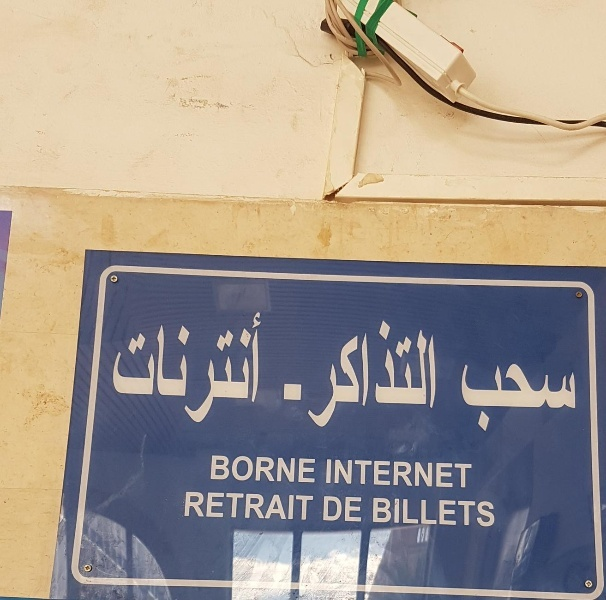text: (113, 310, 128, 430), (129, 310, 144, 430), (145, 310, 160, 430), (161, 310, 176, 430), (177, 310, 192, 430), (193, 310, 208, 430), (209, 310, 224, 430), (225, 310, 240, 430), (241, 310, 256, 430), (289, 319, 304, 430), (305, 319, 320, 430), (321, 319, 336, 430), (337, 319, 352, 430), (353, 319, 368, 430), (369, 319, 384, 430), (385, 319, 400, 430), (401, 319, 416, 430), (417, 319, 432, 430), (465, 361, 480, 433), (481, 361, 496, 433), (497, 361, 512, 433), (513, 361, 528, 433), (529, 361, 544, 433), (545, 361, 560, 433), (561, 361, 576, 433), (257, 310, 263, 430), (481, 497, 497, 529), (193, 491, 208, 523), (209, 491, 224, 523), (225, 491, 240, 523), (241, 491, 256, 523), (257, 491, 272, 523), (273, 491, 288, 523), (289, 491, 304, 523), (385, 497, 400, 529), (401, 497, 416, 529), (417, 497, 432, 529), (433, 497, 448, 529), (449, 497, 464, 529), (465, 497, 480, 529), (225, 454, 240, 485), (241, 454, 256, 485), (257, 454, 272, 485), (273, 454, 288, 485), (289, 454, 304, 485), (337, 458, 352, 489), (353, 458, 368, 489), (369, 458, 384, 489), (385, 458, 400, 489), (401, 458, 416, 489), (417, 458, 432, 489), (433, 458, 448, 489), (449, 458, 464, 489), (433, 319, 437, 430), (458, 361, 464, 433), (337, 496, 352, 524), (211, 454, 224, 485), (305, 454, 317, 485), (305, 491, 316, 523), (373, 497, 384, 529), (325, 458, 336, 489), (324, 496, 336, 524), (465, 458, 475, 489), (353, 496, 364, 524), (186, 491, 192, 523), (577, 361, 579, 433)
